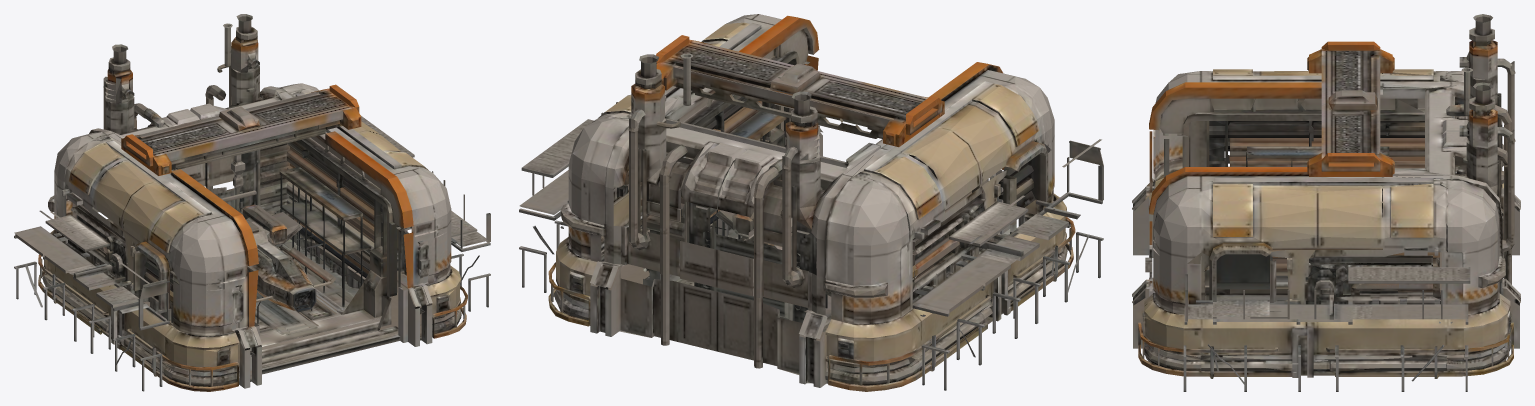
File: ship-factory.glb
3 views of the same model, side by side, from view 1: azimuth 30°, elevation 25°; view 2: azimuth 150°, elevation 25°; view 3: azimuth 270°, elevation 25° (orthographic). The views are drawn at different scales.
Parts seen in each view (by area): view 1: tripo_node_58eace12-0027-469e-a71d-50280a84eeca; view 2: tripo_node_58eace12-0027-469e-a71d-50280a84eeca; view 3: tripo_node_58eace12-0027-469e-a71d-50280a84eeca.
Boxes of the visible parts, bbox=[...] form: tripo_node_58eace12-0027-469e-a71d-50280a84eeca: bbox=[14, 14, 490, 391]; tripo_node_58eace12-0027-469e-a71d-50280a84eeca: bbox=[519, 14, 1103, 391]; tripo_node_58eace12-0027-469e-a71d-50280a84eeca: bbox=[1132, 14, 1520, 391].
Bounding box in the file's own units: 0.9975 × 0.6012 × 0.853.
Materials: 1 (1 with a texture image).
